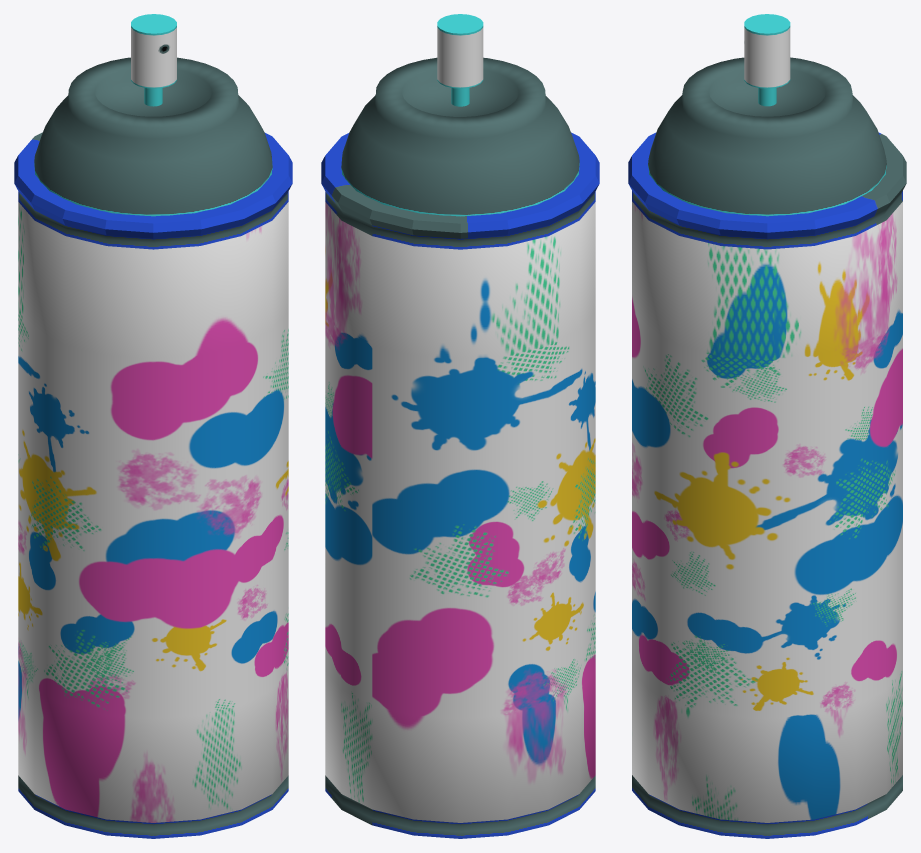
File: supure-_.fbx
The picture shows the model from 3 angles, left to right: view 1: azimuth 30°, elevation 25°; view 2: azimuth 150°, elevation 25°; view 3: azimuth 270°, elevation 25°; orthographic projection.
Visible parts, largest first — view 1: Cylinder001, Sphere001, Cylinder003; view 2: Cylinder001, Sphere001, Cylinder003; view 3: Cylinder001, Sphere001, Cylinder003.
Part boxes in pixels (x1=…): Cylinder001: x1=14, y1=132, x2=292, y2=838; Sphere001: x1=34, y1=57, x2=272, y2=216; Cylinder003: x1=131, y1=14, x2=176, y2=88; Cylinder001: x1=321, y1=132, x2=599, y2=838; Sphere001: x1=341, y1=57, x2=579, y2=216; Cylinder003: x1=437, y1=14, x2=483, y2=88; Cylinder001: x1=628, y1=132, x2=906, y2=838; Sphere001: x1=648, y1=57, x2=886, y2=216; Cylinder003: x1=744, y1=14, x2=790, y2=88.
Bounding box in the file's own units: 30.3 × 89.5 × 29.84.
2 materials, 2 textured.
